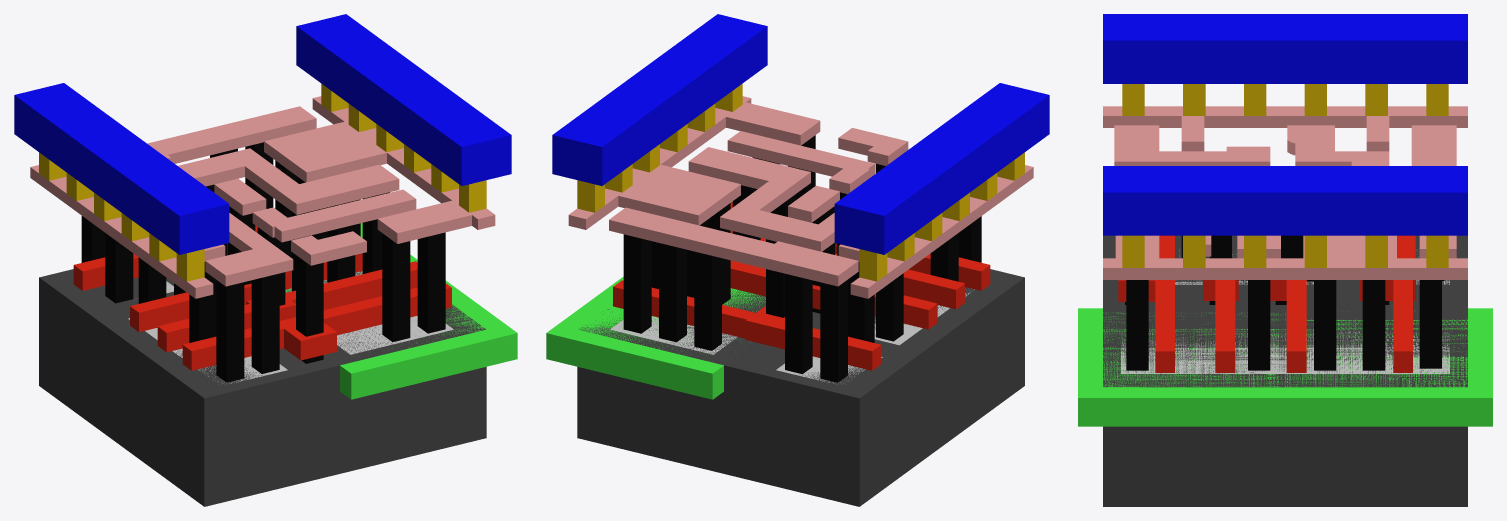
The model's file is sky130_fd_sc_hd__o21a_1.obj.
3 views of the same model, side by side, from view 1: azimuth 30°, elevation 25°; view 2: azimuth 150°, elevation 25°; view 3: azimuth 270°, elevation 25° (orthographic). The views are drawn at different scales.
Visible parts, largest first — view 1: subs, metal1, li, licon, poly, nwell, mcon, tap, diff; view 2: subs, li, metal1, licon, poly, nwell, mcon, tap, diff; view 3: metal1, subs, nwell, li, licon, poly, mcon, tap.
Boxes of the visible parts, x1,y1,x2,y2 form: subs: [39, 269, 486, 506]; metal1: [14, 14, 511, 254]; li: [30, 96, 495, 298]; licon: [81, 142, 445, 382]; poly: [73, 225, 451, 370]; nwell: [285, 223, 517, 399]; mcon: [39, 83, 486, 281]; tap: [285, 271, 453, 354]; diff: [128, 281, 287, 383]; subs: [577, 269, 1024, 506]; li: [568, 96, 1033, 298]; metal1: [552, 14, 1049, 254]; licon: [623, 135, 981, 382]; poly: [613, 202, 990, 370]; nwell: [546, 201, 765, 399]; mcon: [577, 83, 1024, 281]; tap: [610, 316, 737, 354]; diff: [776, 288, 974, 384]; metal1: [1103, 14, 1467, 235]; subs: [1103, 235, 1467, 506]; nwell: [1078, 308, 1492, 426]; li: [1103, 106, 1467, 279]; licon: [1125, 235, 1444, 370]; poly: [1118, 235, 1415, 372]; mcon: [1122, 84, 1448, 267]; tap: [1121, 329, 1449, 373].
Bounding box in the file's own units: 3.2 × 2.74 × 3.14.
